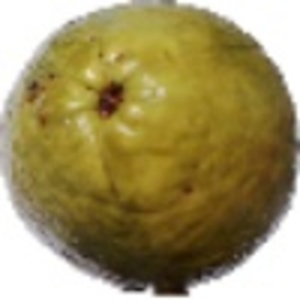goiaba: (7, 1, 295, 277)
